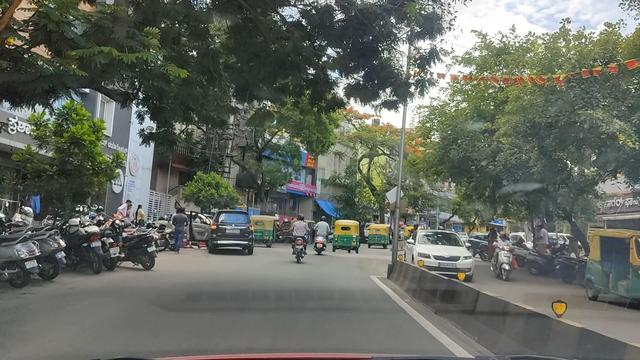LMV: (207, 208, 253, 253), (287, 209, 312, 261)
